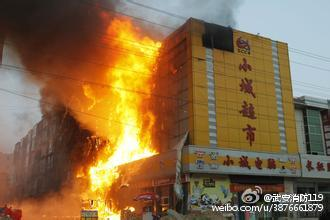fire: (5, 2, 159, 207)
